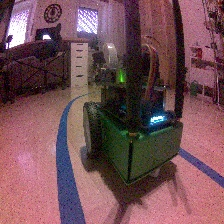rob: (81, 51, 184, 187)
